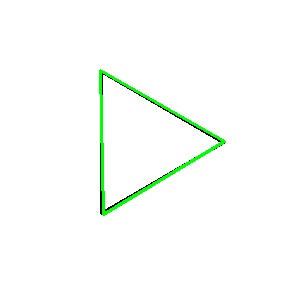line_segment: (99, 70, 225, 215)
